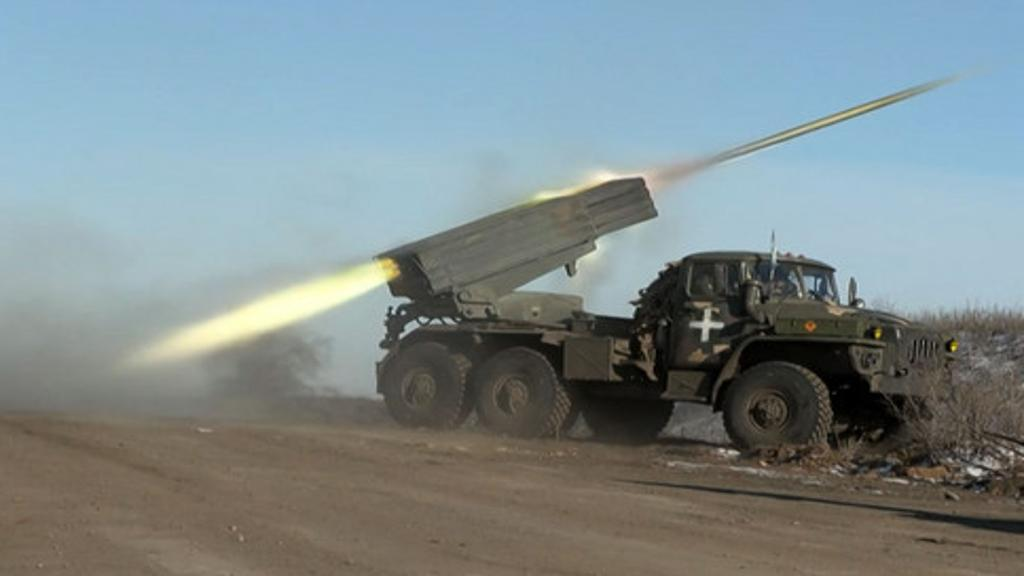MLRS: (373, 170, 957, 455)
